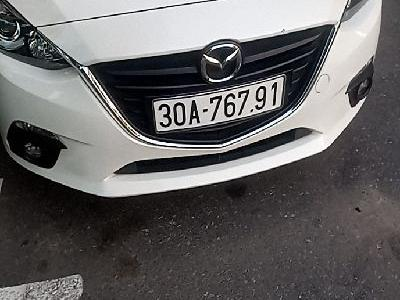car: (152, 74, 289, 135)
